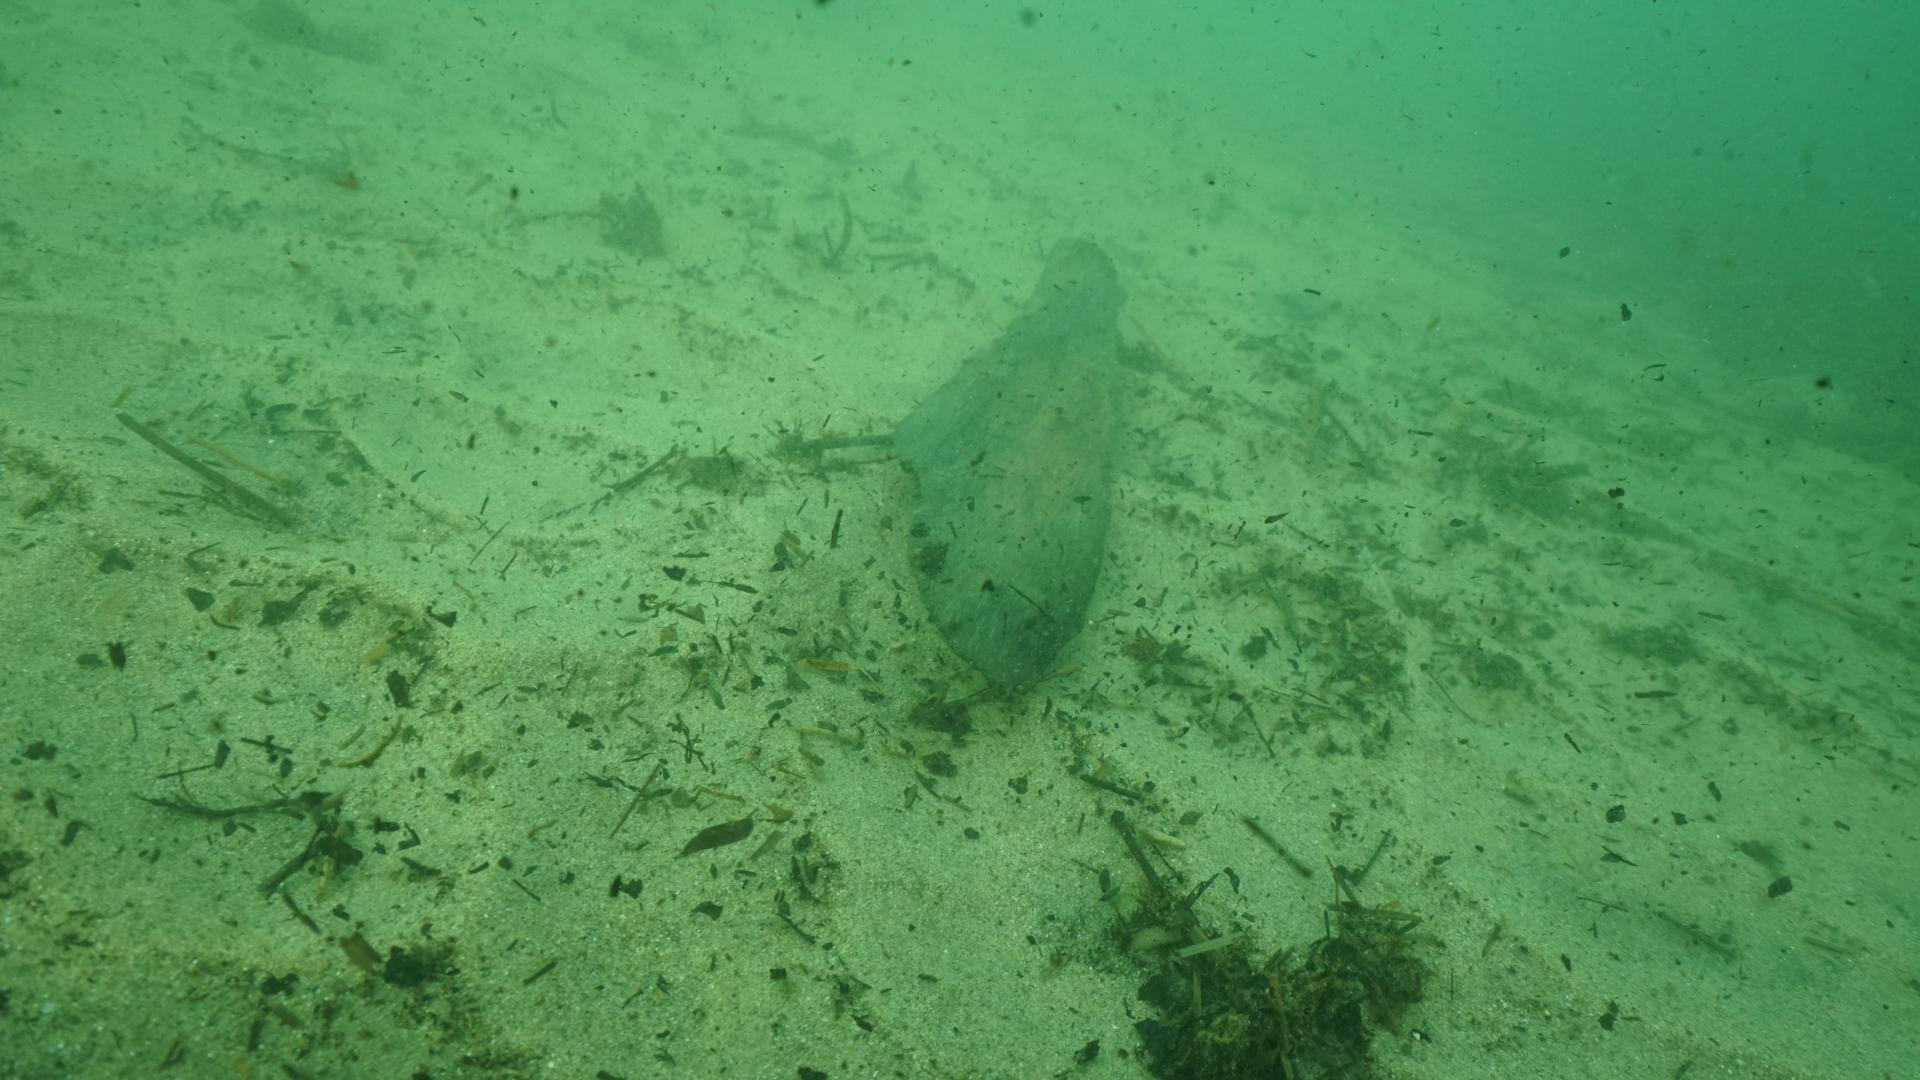wood: (887, 233, 1131, 690)
